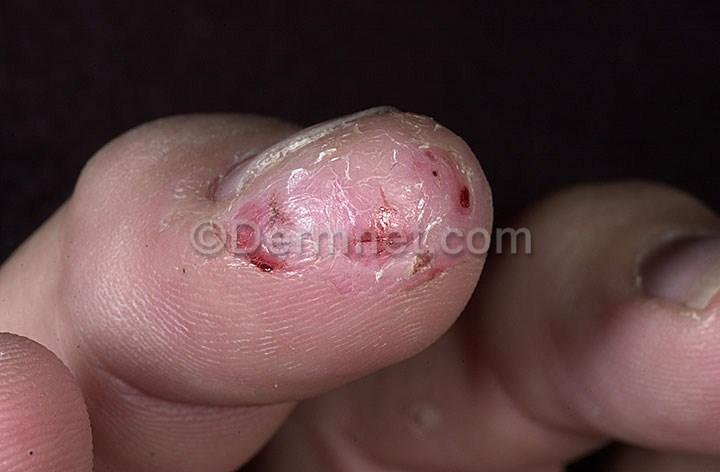Eczema: (177, 164, 506, 310), (247, 171, 348, 216), (220, 256, 311, 290), (390, 260, 458, 299), (451, 179, 486, 218)
